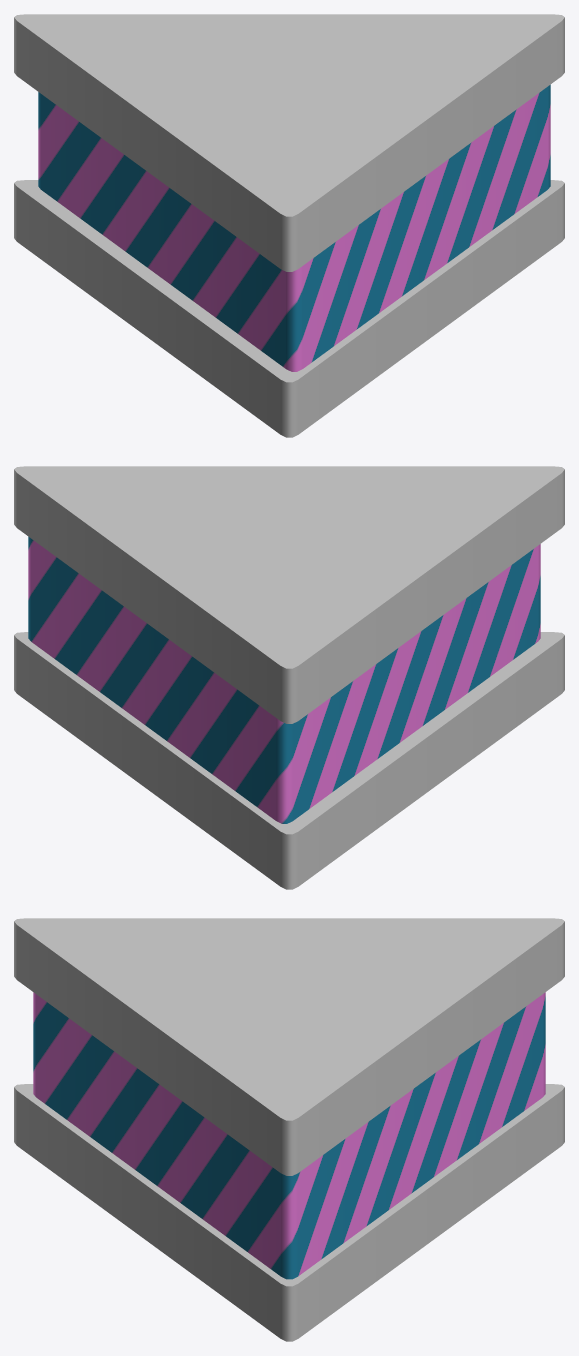
The model's file is PINK_Triangle_move.FBX.
3 views of the same model, one above another, from view 1: azimuth 30°, elevation 25°; view 2: azimuth 150°, elevation 25°; view 3: azimuth 270°, elevation 25° (orthographic).
Visible parts, largest first — view 1: PINK_Triangle_move, RotateMesh; view 2: PINK_Triangle_move, RotateMesh; view 3: PINK_Triangle_move, RotateMesh.
Boxes of the visible parts, bbox=[...] form: PINK_Triangle_move: bbox=[14, 14, 564, 437]; RotateMesh: bbox=[38, 84, 550, 371]; PINK_Triangle_move: bbox=[14, 466, 564, 889]; RotateMesh: bbox=[28, 536, 540, 823]; PINK_Triangle_move: bbox=[14, 918, 564, 1341]; RotateMesh: bbox=[33, 992, 545, 1279].
Bounding box in the file's own units: 53.04 × 27 × 61.02.
